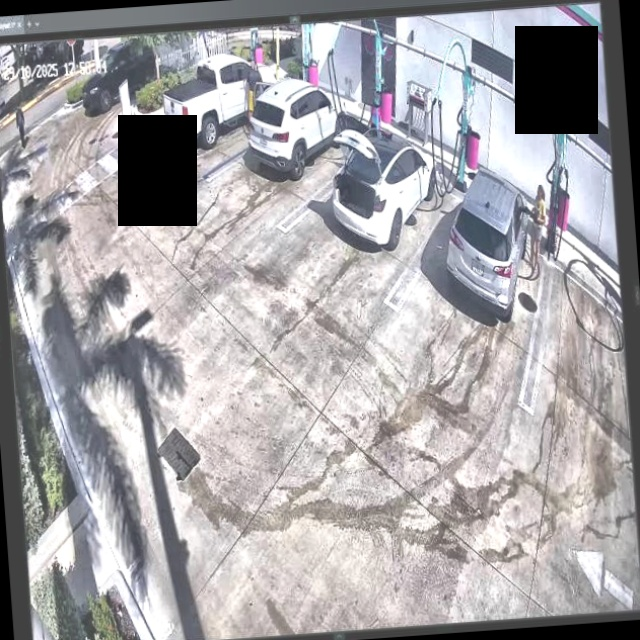Car: (328, 112, 440, 253), (449, 164, 529, 317), (169, 57, 282, 158), (246, 77, 349, 181)
